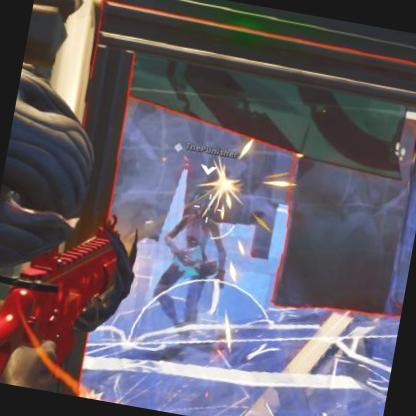person: (160, 182, 230, 310)
